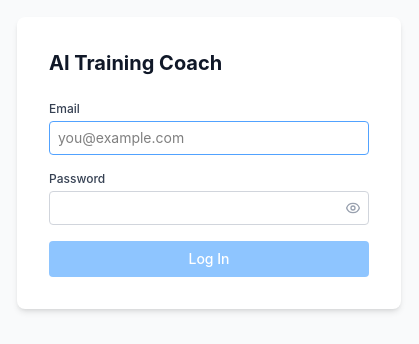
Test: LoginPage form behavior and error states › shows "Invalid email or password" on 401 response
In the field labelled "Email": (209, 138) top-left (49, 121), bottom-right (369, 155), type "wrong@example.com"
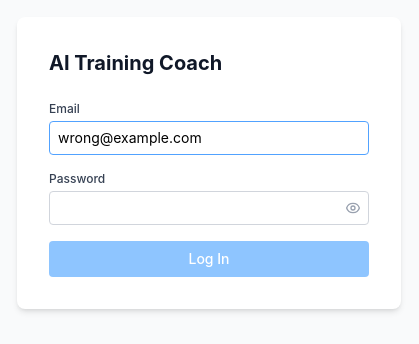
In the password field labelled "Password": (209, 208) top-left (49, 191), bottom-right (369, 225), type "wrongpassword"
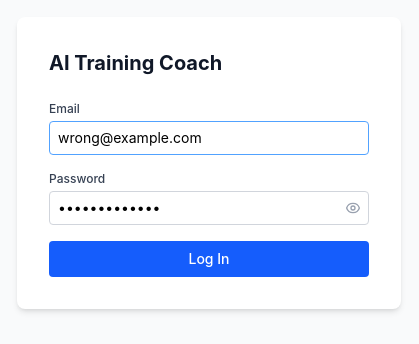
Click the button "Log In": (209, 259) top-left (49, 241), bottom-right (369, 277)
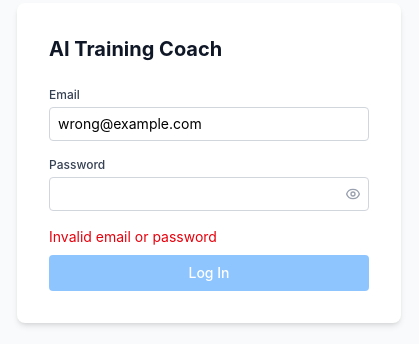
expect the text "Invalid email or password" is shown: met, box top-left (49, 228), bottom-right (217, 245)
